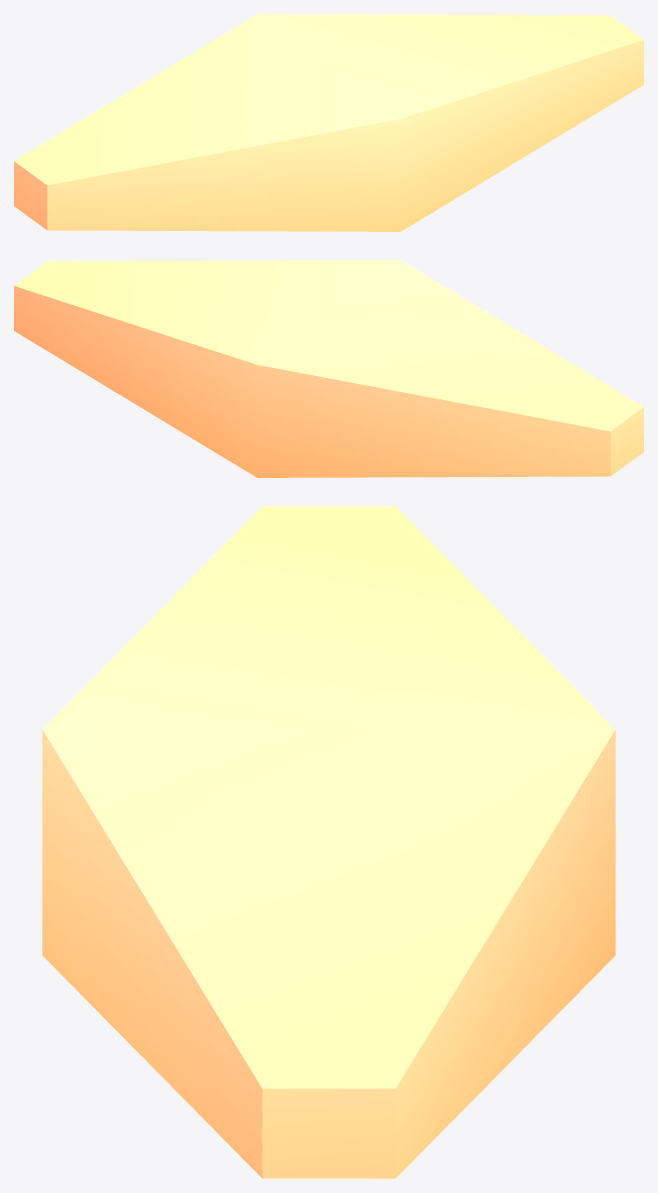
The model's file is wood_guard_072_004.glb.
3 views of the same model, one above another, from view 1: azimuth 30°, elevation 25°; view 2: azimuth 150°, elevation 25°; view 3: azimuth 270°, elevation 25° (orthographic). The views are drawn at different scales.
Visible parts, largest first — view 1: wood_guard_072.004; view 2: wood_guard_072.004; view 3: wood_guard_072.004.
Part boxes in pixels (x1=…): wood_guard_072.004: x1=14, y1=14, x2=643, y2=231; wood_guard_072.004: x1=14, y1=260, x2=643, y2=477; wood_guard_072.004: x1=42, y1=506, x2=615, y2=1178.
Bounding box in the file's own units: 6.51 × 1.18 × 2.71.
1 material, 1 textured.
